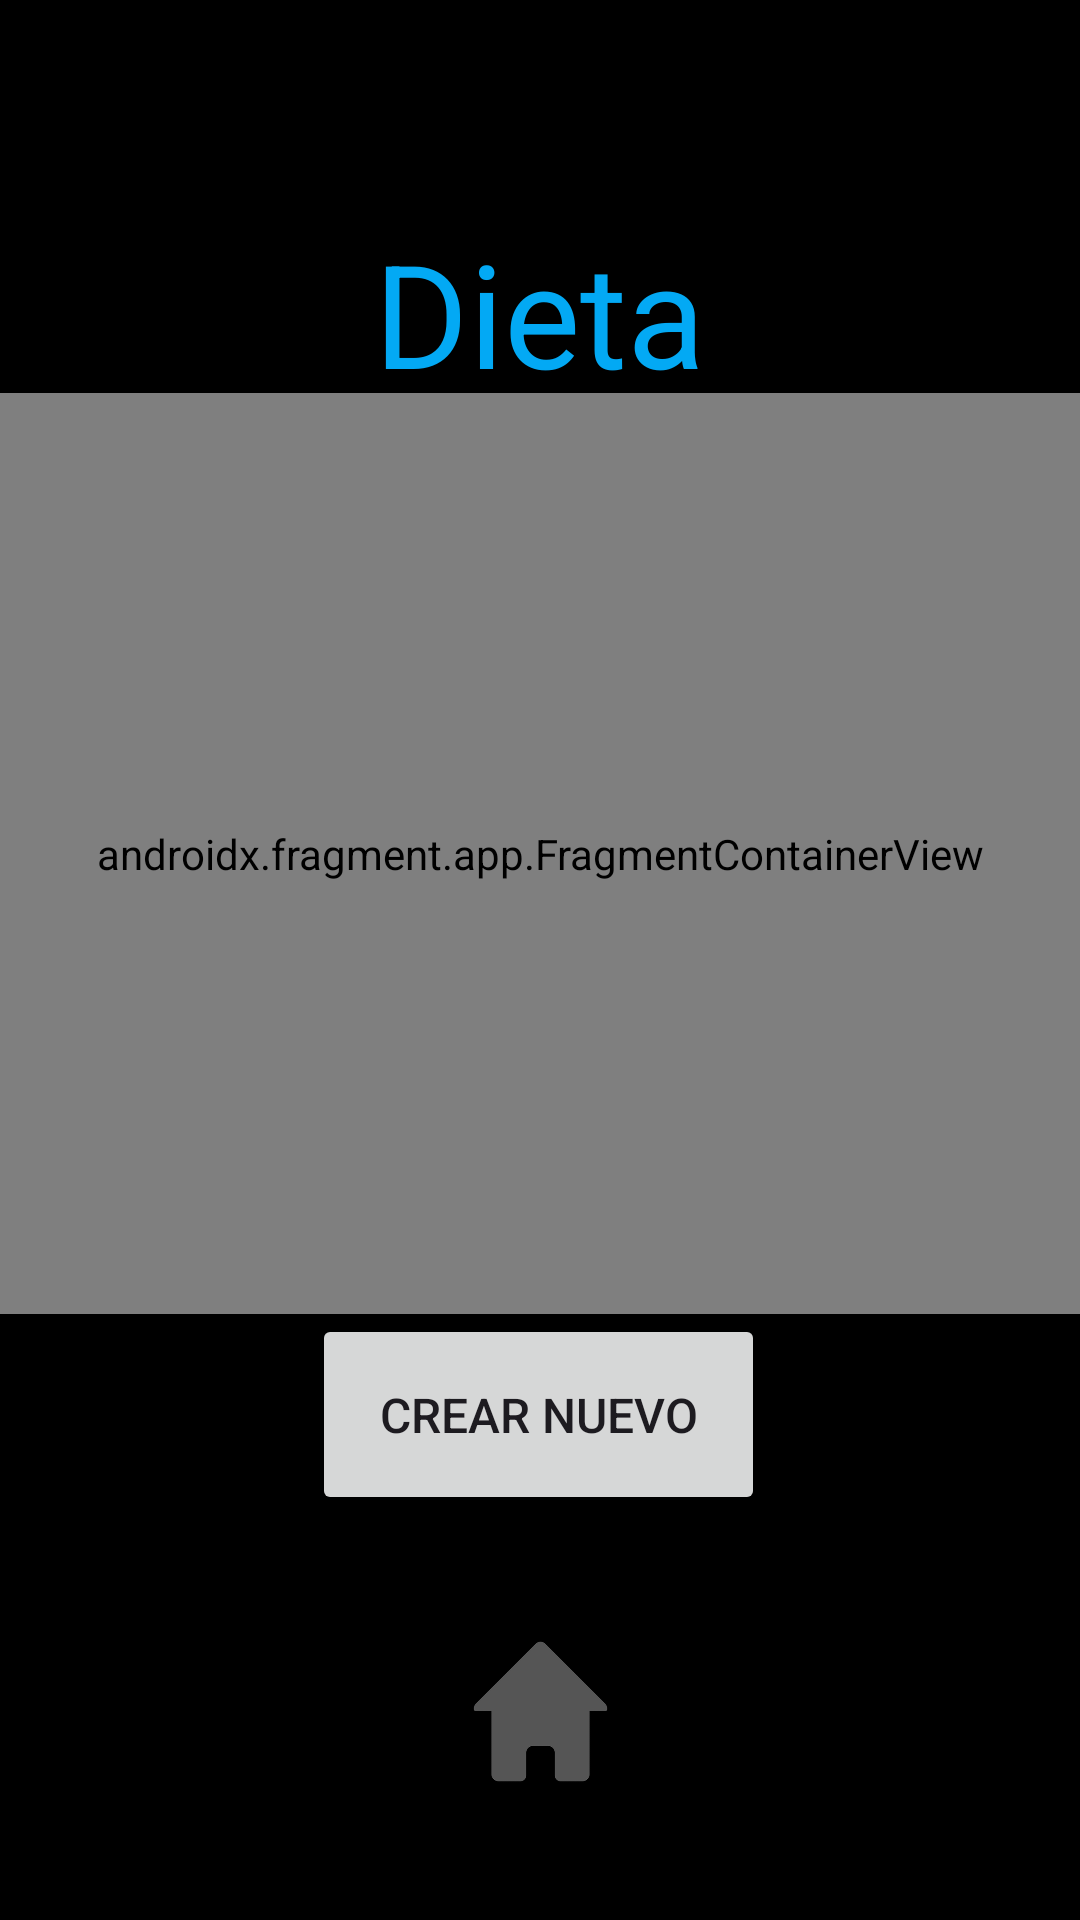

Icon bounding boxes for this 1080×1920 phone screenshot, format bbox=[x1, y1, x2, y2]:
casa: bbox=[474, 1642, 607, 1781]
